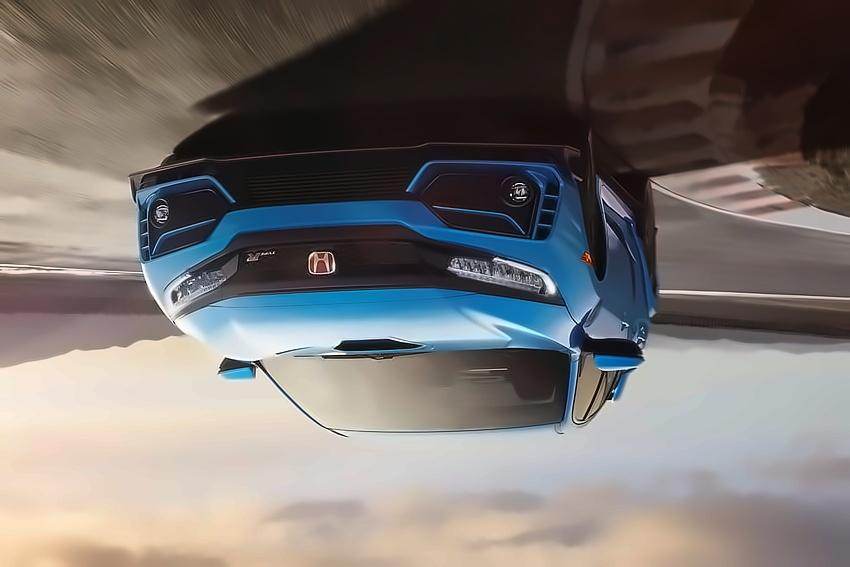Car hood: (173, 286, 589, 356)
Front bumper: (105, 131, 596, 258)
Headlight - -L-: (157, 248, 229, 320)
Headlight - -R-: (441, 245, 563, 300)
Side mirror - -L-: (208, 347, 260, 384)
Side mirror - -R-: (588, 342, 650, 378)
